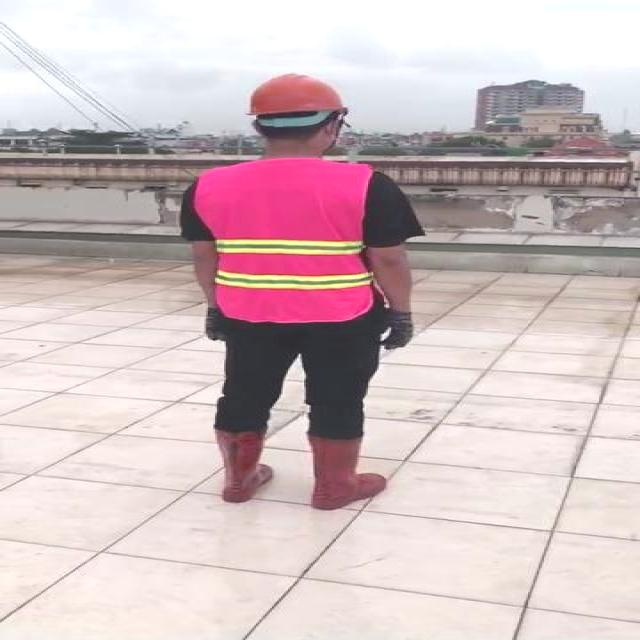boots: (298, 433, 388, 510), (212, 428, 273, 506)
hand_glove: (375, 309, 418, 350), (199, 304, 226, 343)
head_helmet: (238, 70, 348, 119)
person: (178, 64, 432, 514)
vest: (198, 160, 374, 323)
